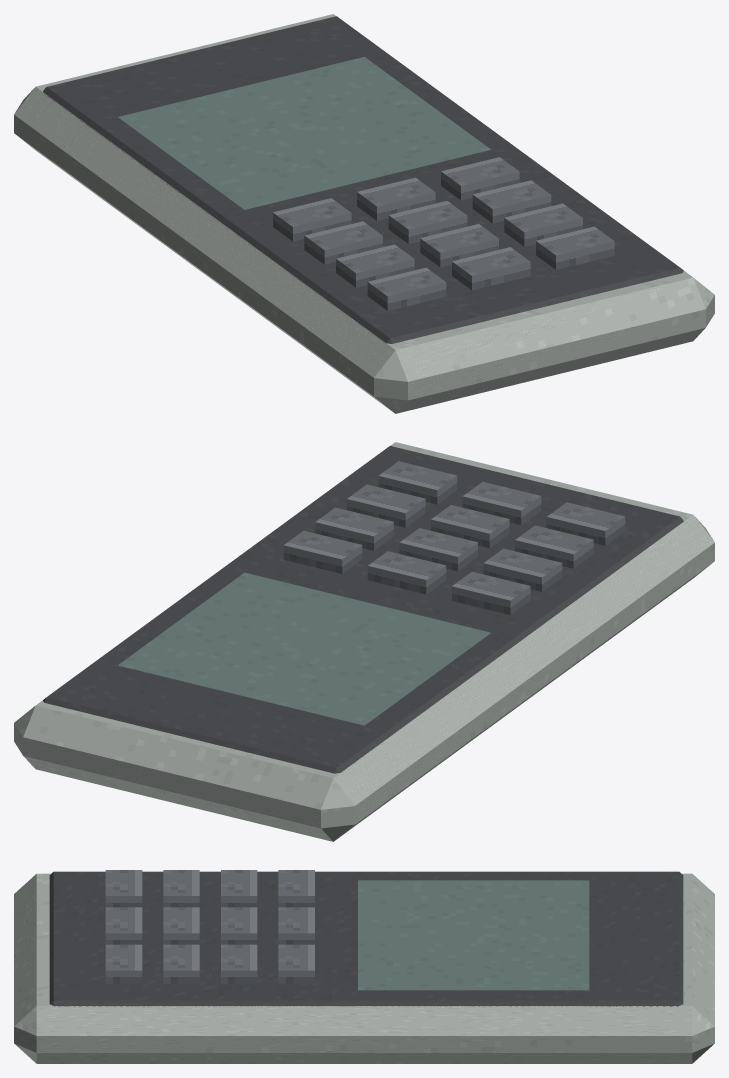
File: cell_phone.glb
3 renders of one model, top to bottom at view 1: azimuth 30°, elevation 25°; view 2: azimuth 150°, elevation 25°; view 3: azimuth 270°, elevation 25°, orthographic. The views are drawn at different scales.
Parts seen in each view (by area): view 1: block_phone body, block_phone face, block_small LCD, block_number key (×12); view 2: block_phone body, block_phone face, block_small LCD, block_number key (×12); view 3: block_phone body, block_phone face, block_small LCD, block_number key (×12).
Boxes of the visible parts, left/top/right/bottom form: block_phone body: left=14, top=14, right=714, bottom=413; block_phone face: left=43, top=16, right=683, bottom=343; block_small LCD: left=118, top=57, right=490, bottom=209; block_number key (×12): left=273, top=157, right=614, bottom=310; block_phone body: left=14, top=442, right=714, bottom=841; block_phone face: left=43, top=446, right=683, bottom=773; block_small LCD: left=118, top=572, right=490, bottom=725; block_number key (×12): left=283, top=461, right=625, bottom=614; block_phone body: left=14, top=873, right=714, bottom=1063; block_phone face: left=49, top=871, right=683, bottom=1006; block_small LCD: left=358, top=880, right=589, bottom=990; block_number key (×12): left=105, top=870, right=314, bottom=983.
Bounding box in the file's own units: 0.0432 × 0.00998 × 0.0845.
1 material, 1 textured.
